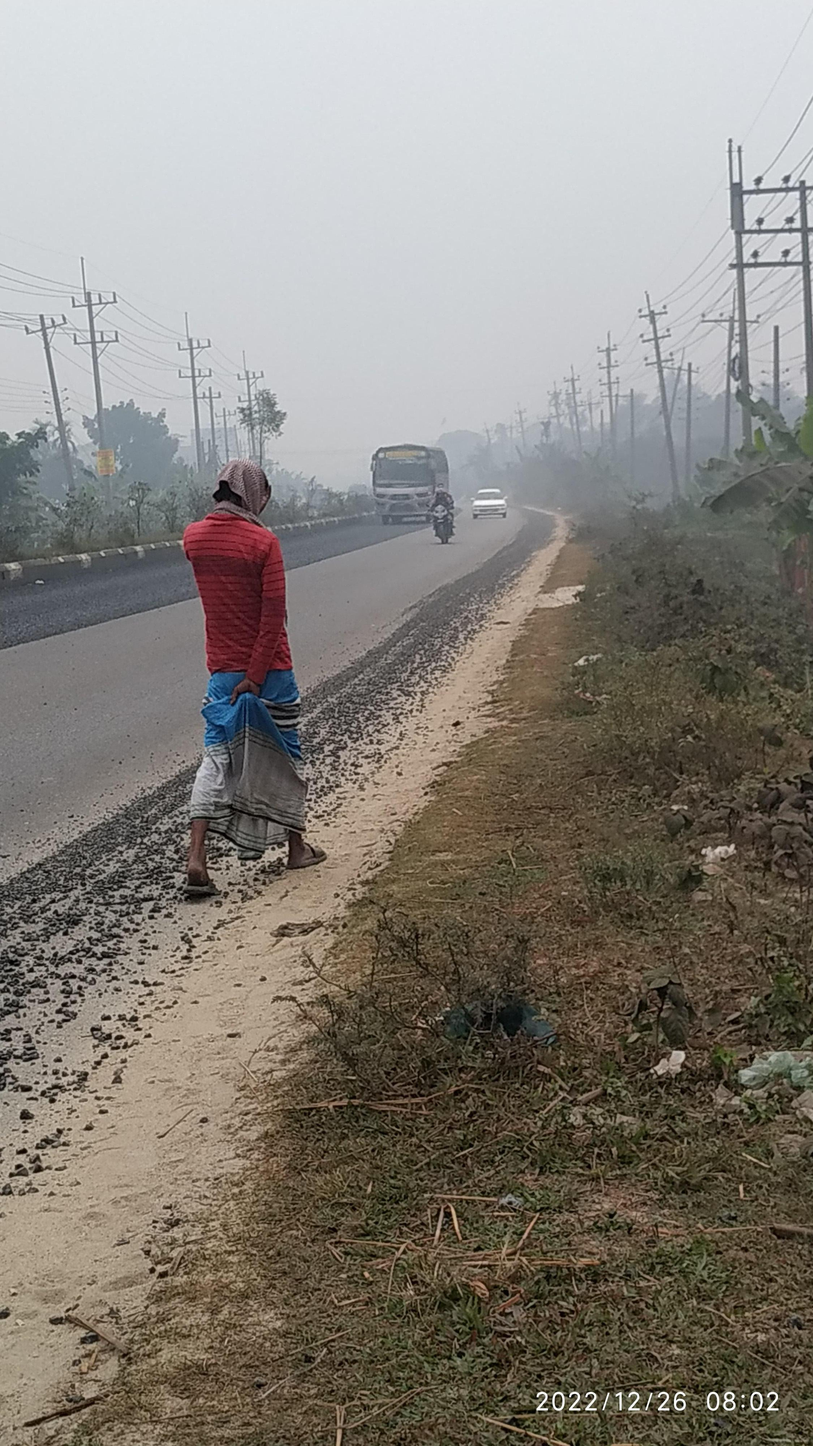Bike: (412, 486, 471, 554)
Bus: (363, 432, 461, 524)
Car: (465, 477, 519, 540)
